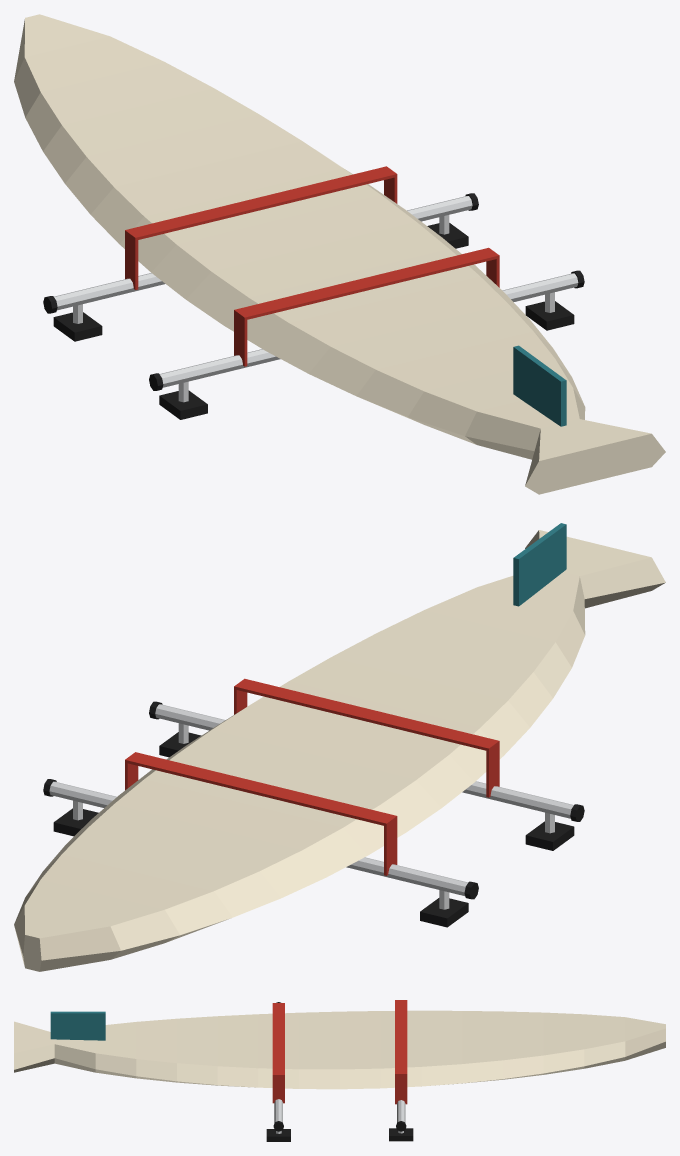
File: roofrack_surf_classic.glb
The picture shows the model from 3 angles, top to bottom: view 1: azimuth 30°, elevation 25°; view 2: azimuth 150°, elevation 25°; view 3: azimuth 270°, elevation 25°; orthographic projection. The views are drawn at different scales.
Visible parts, largest first — view 1: Surfboard, RoofRack; view 2: Surfboard, RoofRack; view 3: Surfboard, RoofRack.
Part boxes in pixels (x1,y1,x2,y2): Surfboard: [14, 14, 665, 494]; RoofRack: [43, 193, 584, 419]; Surfboard: [14, 523, 665, 971]; RoofRack: [43, 701, 584, 927]; Surfboard: [14, 1000, 665, 1104]; RoofRack: [266, 1002, 413, 1141].
Bounding box in the file's own units: 0.932 × 0.266 × 2.13.
